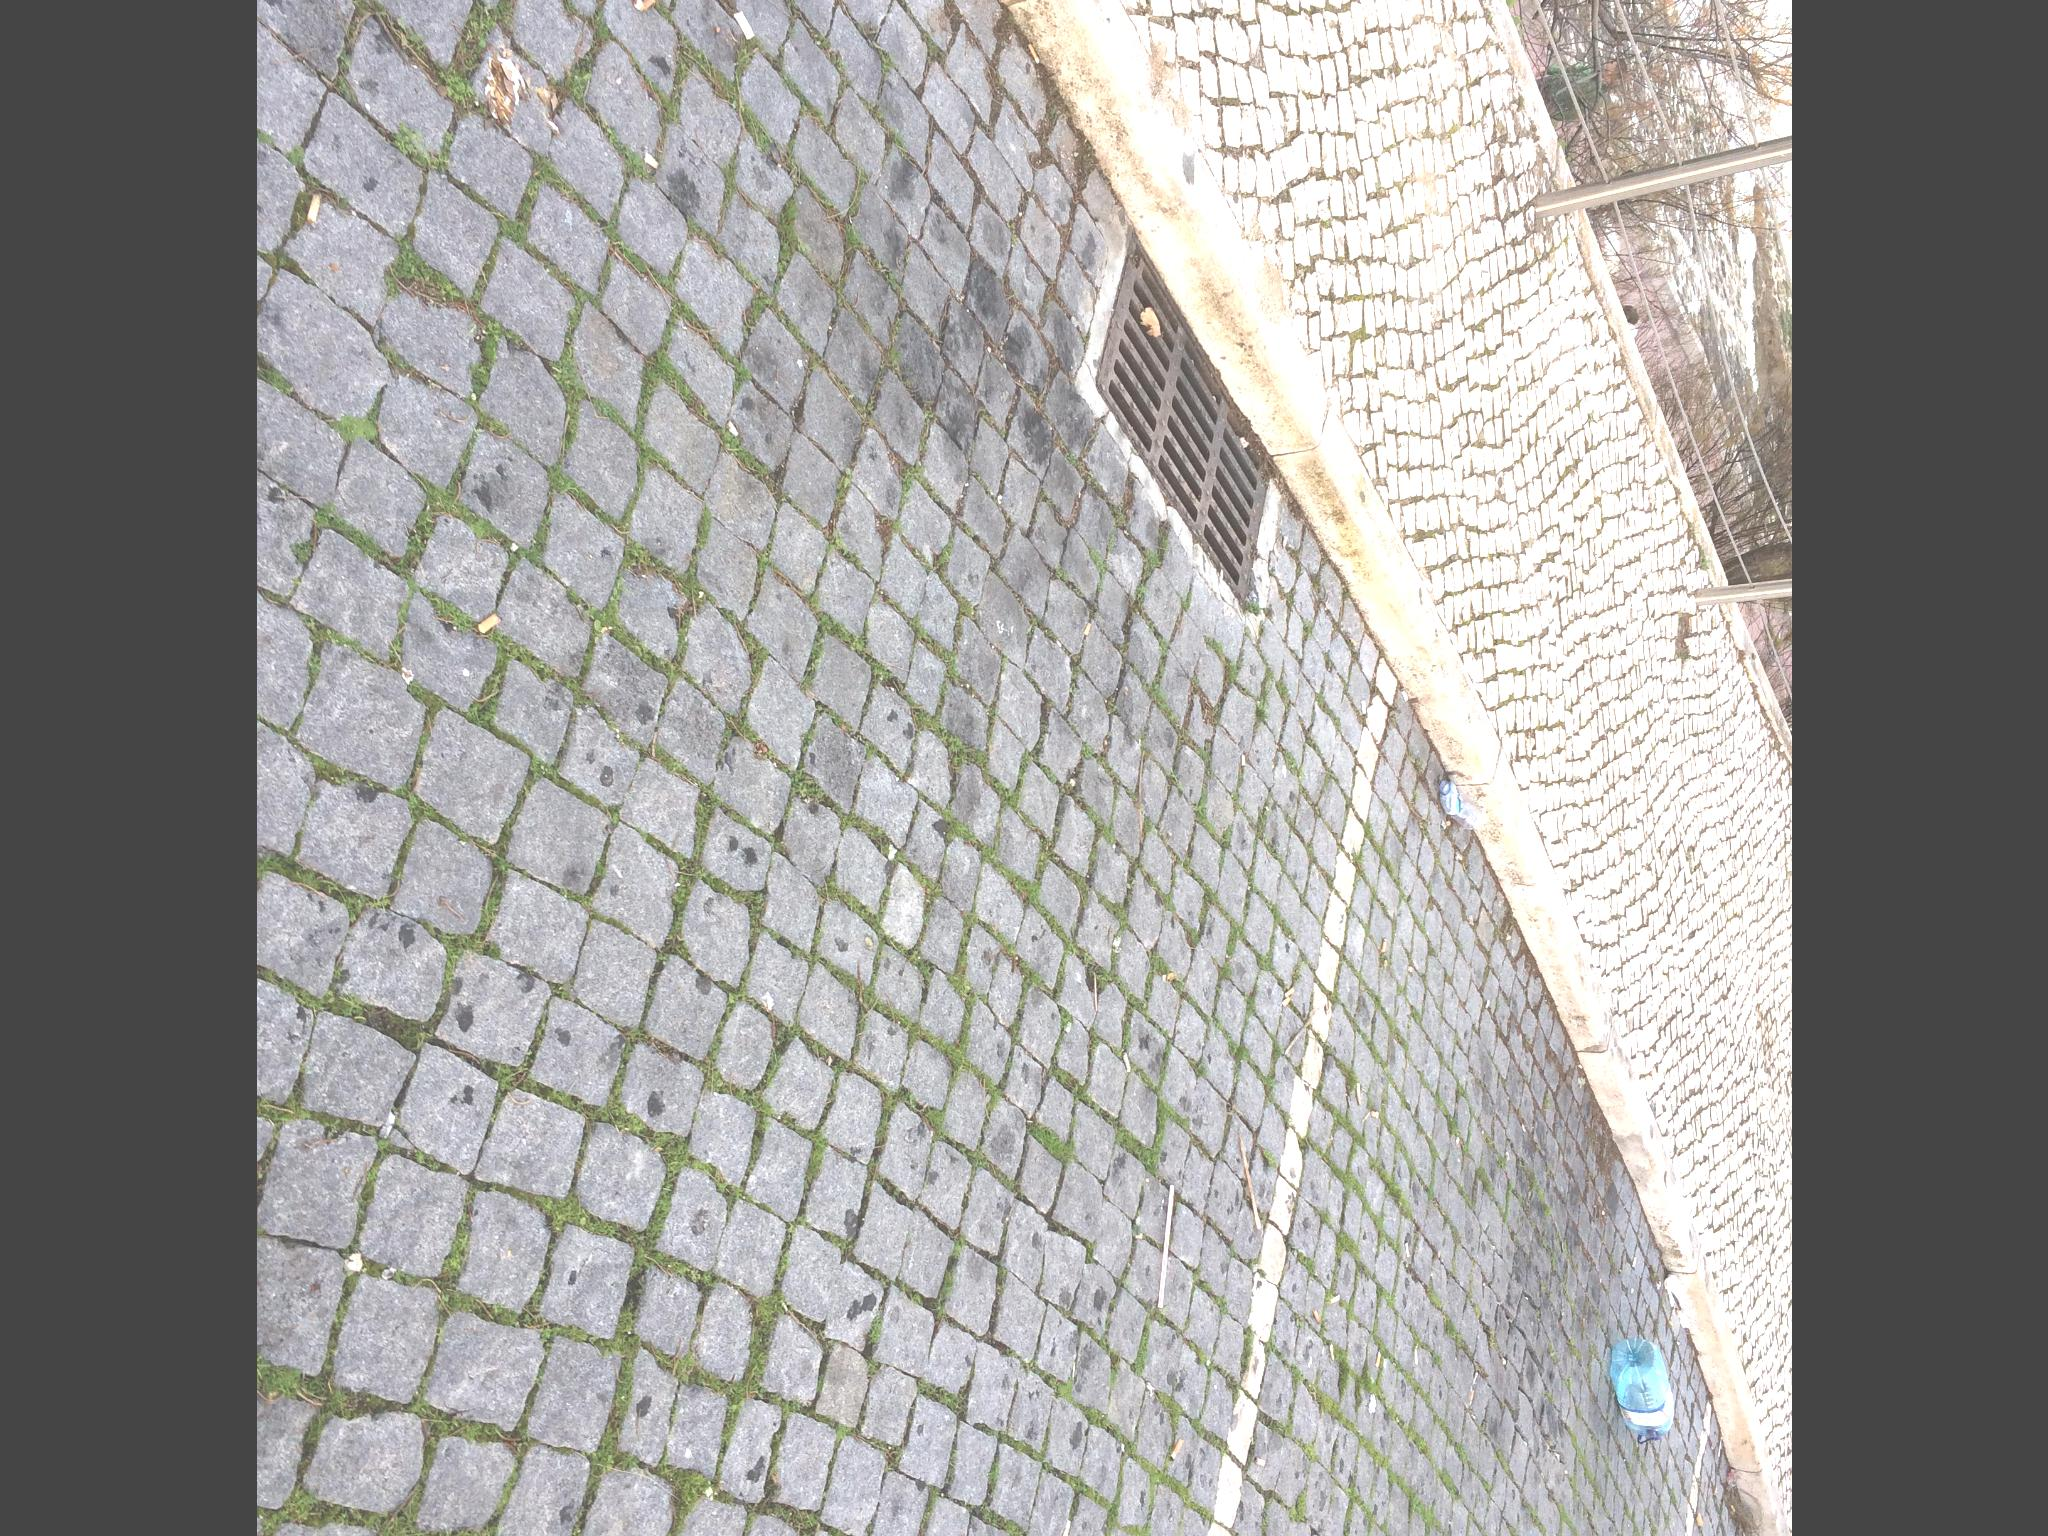bottle: (1593, 1315, 1690, 1455), (1424, 765, 1503, 847)
